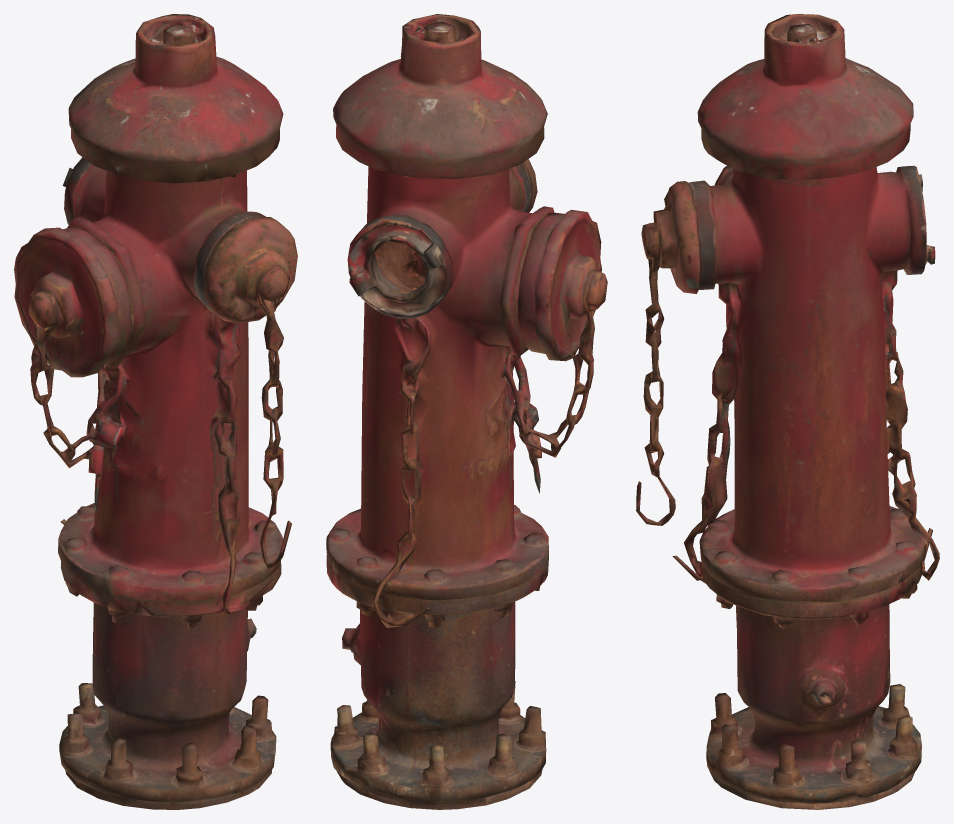
The model's file is PX_Fire_Hydrant_01_LOD4.fbx.
The picture shows the model from 3 angles, left to right: view 1: azimuth 30°, elevation 25°; view 2: azimuth 150°, elevation 25°; view 3: azimuth 270°, elevation 25°; orthographic projection.
Parts seen in each view (by area): view 1: PX_Fire_Hydrant_01_LOD4; view 2: PX_Fire_Hydrant_01_LOD4; view 3: PX_Fire_Hydrant_01_LOD4.
Boxes of the visible parts, box(x1,y1,x2,y2) form: PX_Fire_Hydrant_01_LOD4: box(14, 14, 297, 809); PX_Fire_Hydrant_01_LOD4: box(326, 14, 607, 809); PX_Fire_Hydrant_01_LOD4: box(636, 14, 939, 809).
Bounding box in the file's own units: 27.48 × 77.86 × 29.01.
